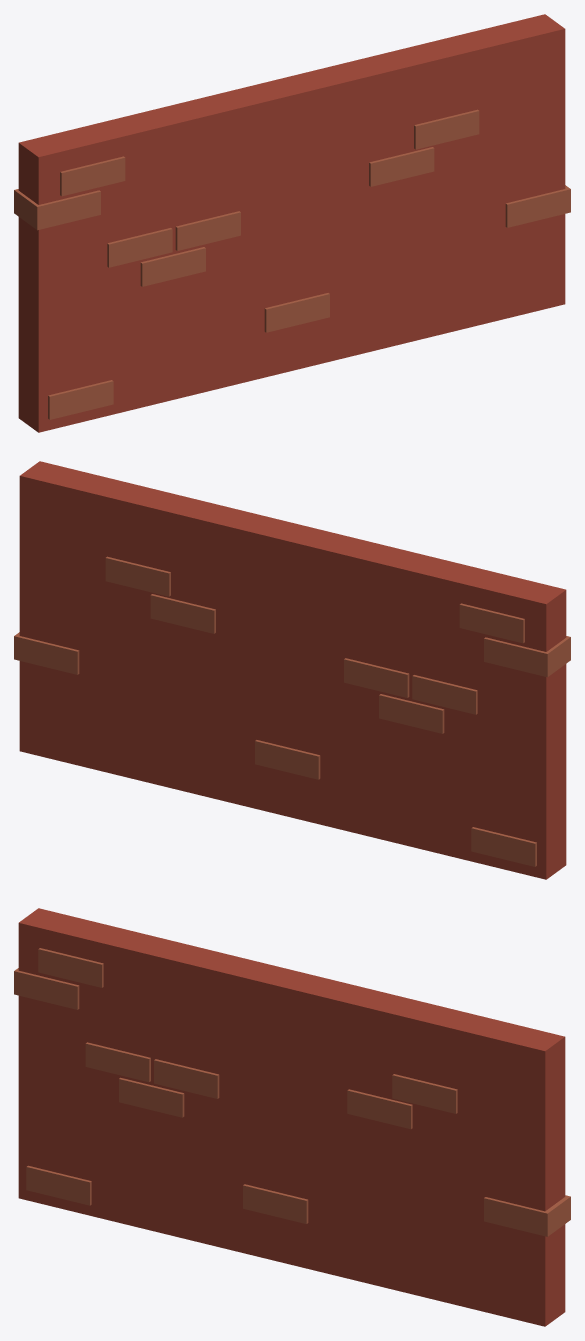
The model's file is duvar.fbx.
3 renders of one model, top to bottom at view 1: azimuth 30°, elevation 25°; view 2: azimuth 150°, elevation 25°; view 3: azimuth 330°, elevation 25°, orthographic.
Parts seen in each view (by area): view 1: duvar_fracturepart47, duvar_fracturepart59, duvar_fracturepart30, duvar_fracturepart79, duvar_fracturepart35, duvar_fracturepart10, duvar_fracturepart33, duvar_fracturepart51, duvar_fracturepart42, duvar_fracturepart71, duvar_fracturepart2, duvar_fracturepart64 (+72 smaller); view 2: duvar_fracturepart30, duvar_fracturepart45, duvar_fracturepart43, duvar_fracturepart47, duvar_fracturepart59, duvar_fracturepart31, duvar_fracturepart79, duvar_fracturepart20, duvar_fracturepart5, duvar_fracturepart10, duvar_fracturepart33, duvar_fracturepart73 (+73 smaller); view 3: duvar_fracturepart30, duvar_fracturepart59, duvar_fracturepart79, duvar_fracturepart35, duvar_fracturepart24, duvar_fracturepart10, duvar_fracturepart33, duvar_fracturepart51, duvar_fracturepart2, duvar_fracturepart42, duvar_fracturepart28, duvar_fracturepart64 (+71 smaller).
Part boxes in pixels (<box>): duvar_fracturepart47: <box>18,152,85,298</box>; duvar_fracturepart59: <box>18,123,168,189</box>; duvar_fracturepart30: <box>483,120,565,199</box>; duvar_fracturepart79: <box>469,49,549,151</box>; duvar_fracturepart35: <box>236,183,315,254</box>; duvar_fracturepart10: <box>132,98,227,161</box>; duvar_fracturepart33: <box>252,71,337,134</box>; duvar_fracturepart51: <box>77,311,161,377</box>; duvar_fracturepart42: <box>289,146,358,229</box>; duvar_fracturepart71: <box>18,355,92,432</box>; duvar_fracturepart2: <box>186,237,246,315</box>; duvar_fracturepart64: <box>460,151,518,235</box>; duvar_fracturepart30: <box>19,556,116,651</box>; duvar_fracturepart45: <box>308,533,377,623</box>; duvar_fracturepart43: <box>110,593,171,686</box>; duvar_fracturepart47: <box>509,589,566,735</box>; duvar_fracturepart59: <box>451,564,561,642</box>; duvar_fracturepart31: <box>321,764,390,841</box>; duvar_fracturepart79: <box>37,495,112,590</box>; duvar_fracturepart20: <box>413,795,500,868</box>; duvar_fracturepart5: <box>491,797,560,879</box>; duvar_fracturepart10: <box>364,543,461,604</box>; duvar_fracturepart33: <box>254,516,336,579</box>; duvar_fracturepart73: <box>454,588,565,697</box>; duvar_fracturepart30: <box>463,1120,565,1204</box>; duvar_fracturepart59: <box>22,908,148,1001</box>; duvar_fracturepart79: <box>449,1048,529,1135</box>; duvar_fracturepart35: <box>216,1066,295,1136</box>; duvar_fracturepart24: <box>500,1053,565,1145</box>; duvar_fracturepart10: <box>123,936,220,994</box>; duvar_fracturepart33: <box>248,965,330,1026</box>; duvar_fracturepart51: <box>57,1115,141,1173</box>; duvar_fracturepart2: <box>166,1090,226,1164</box>; duvar_fracturepart42: <box>269,1060,338,1135</box>; duvar_fracturepart28: <box>126,1143,189,1226</box>; duvar_fracturepart64: <box>440,1126,498,1217</box>.
Bounding box in the file's own units: 4.05 × 2 × 0.3077.
